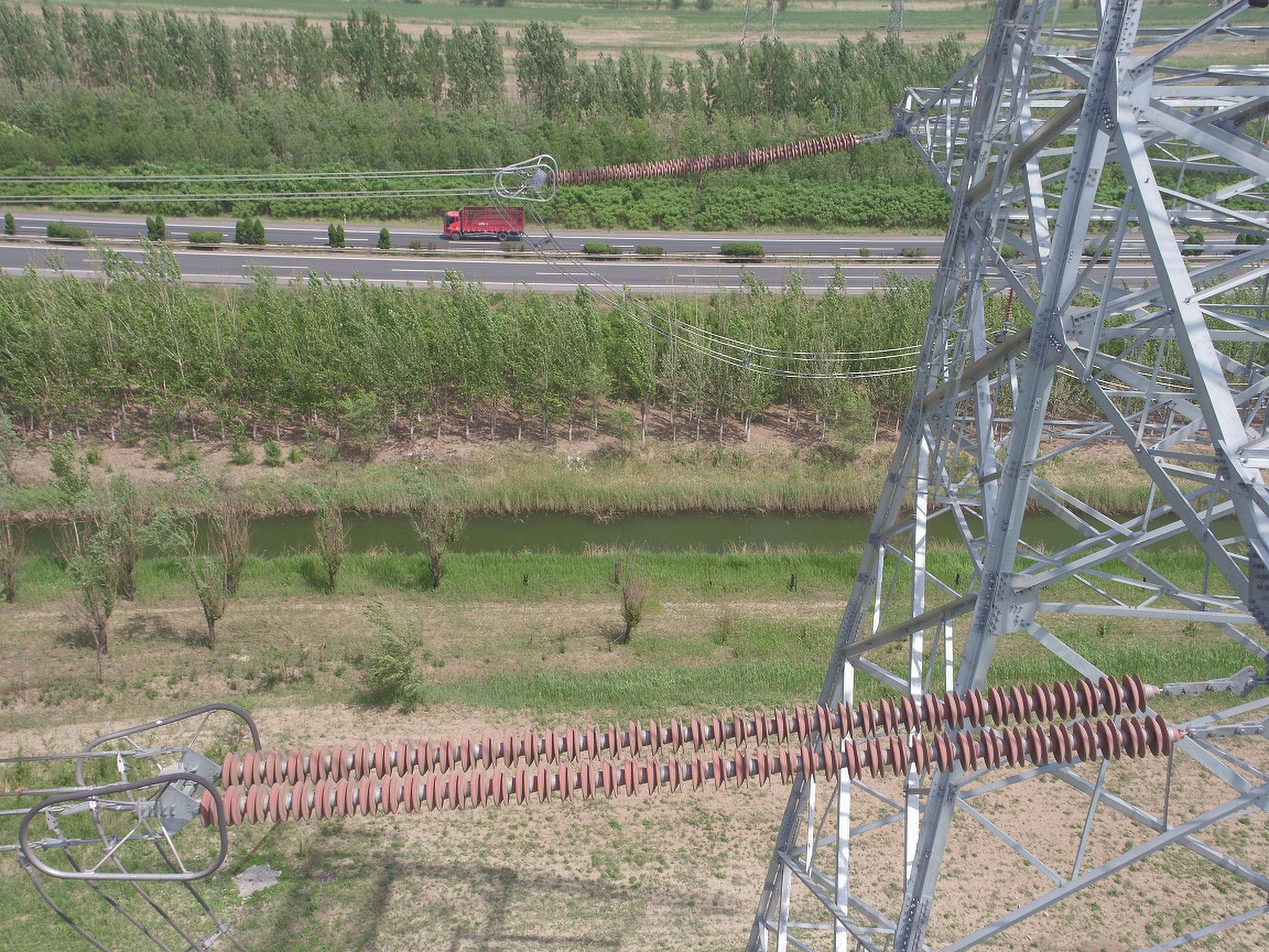insulator: (195, 670, 1177, 834), (543, 129, 861, 190)
